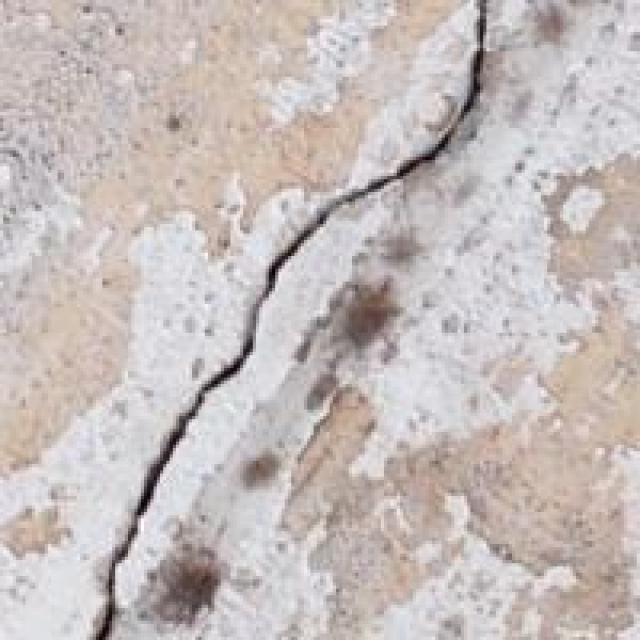Crack: (64, 0, 541, 637)
